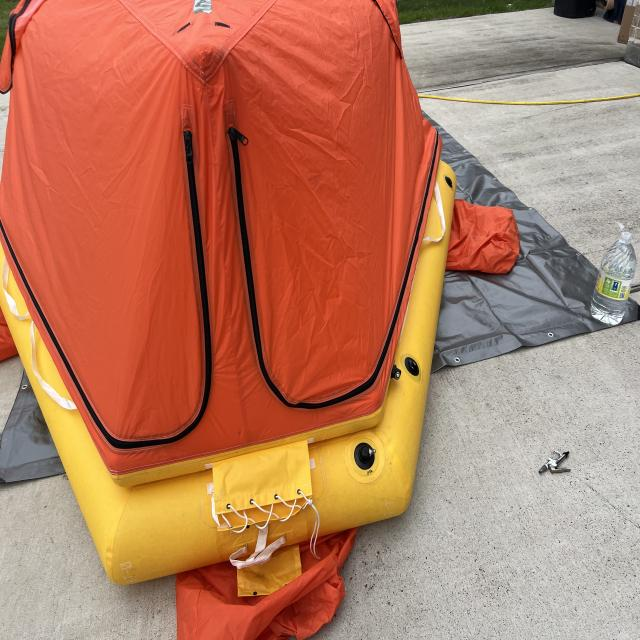Multi-person_life_raft: (0, 0, 520, 639)
